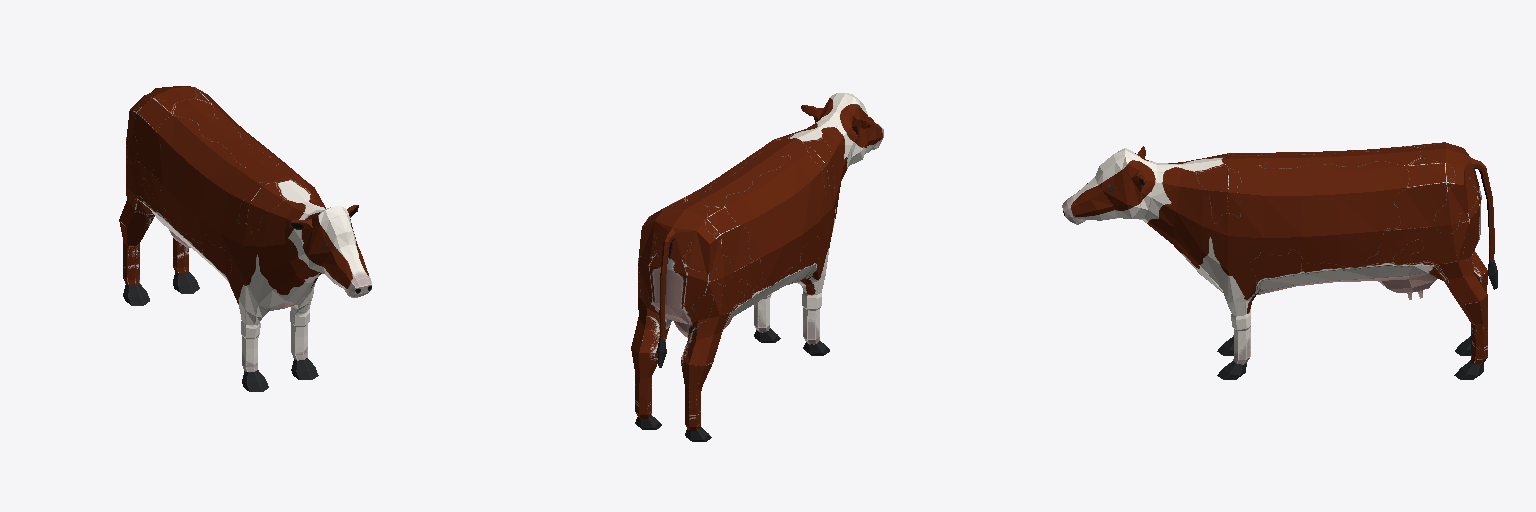
3 renders of one model, left to right at view 1: azimuth 30°, elevation 25°; view 2: azimuth 150°, elevation 25°; view 3: azimuth 270°, elevation 25°, orthographic.
Visible parts, largest first — view 1: Cow_mesh; view 2: Cow_mesh; view 3: Cow_mesh.
Boxes of the visible parts, box(x1,y1,x2,y2) form: Cow_mesh: box(119, 86, 371, 391); Cow_mesh: box(631, 93, 883, 441); Cow_mesh: box(1062, 142, 1497, 379).
Size of the model in its own units: 3.36 by 7.42 by 13.65.
1 materials, 1 textured.